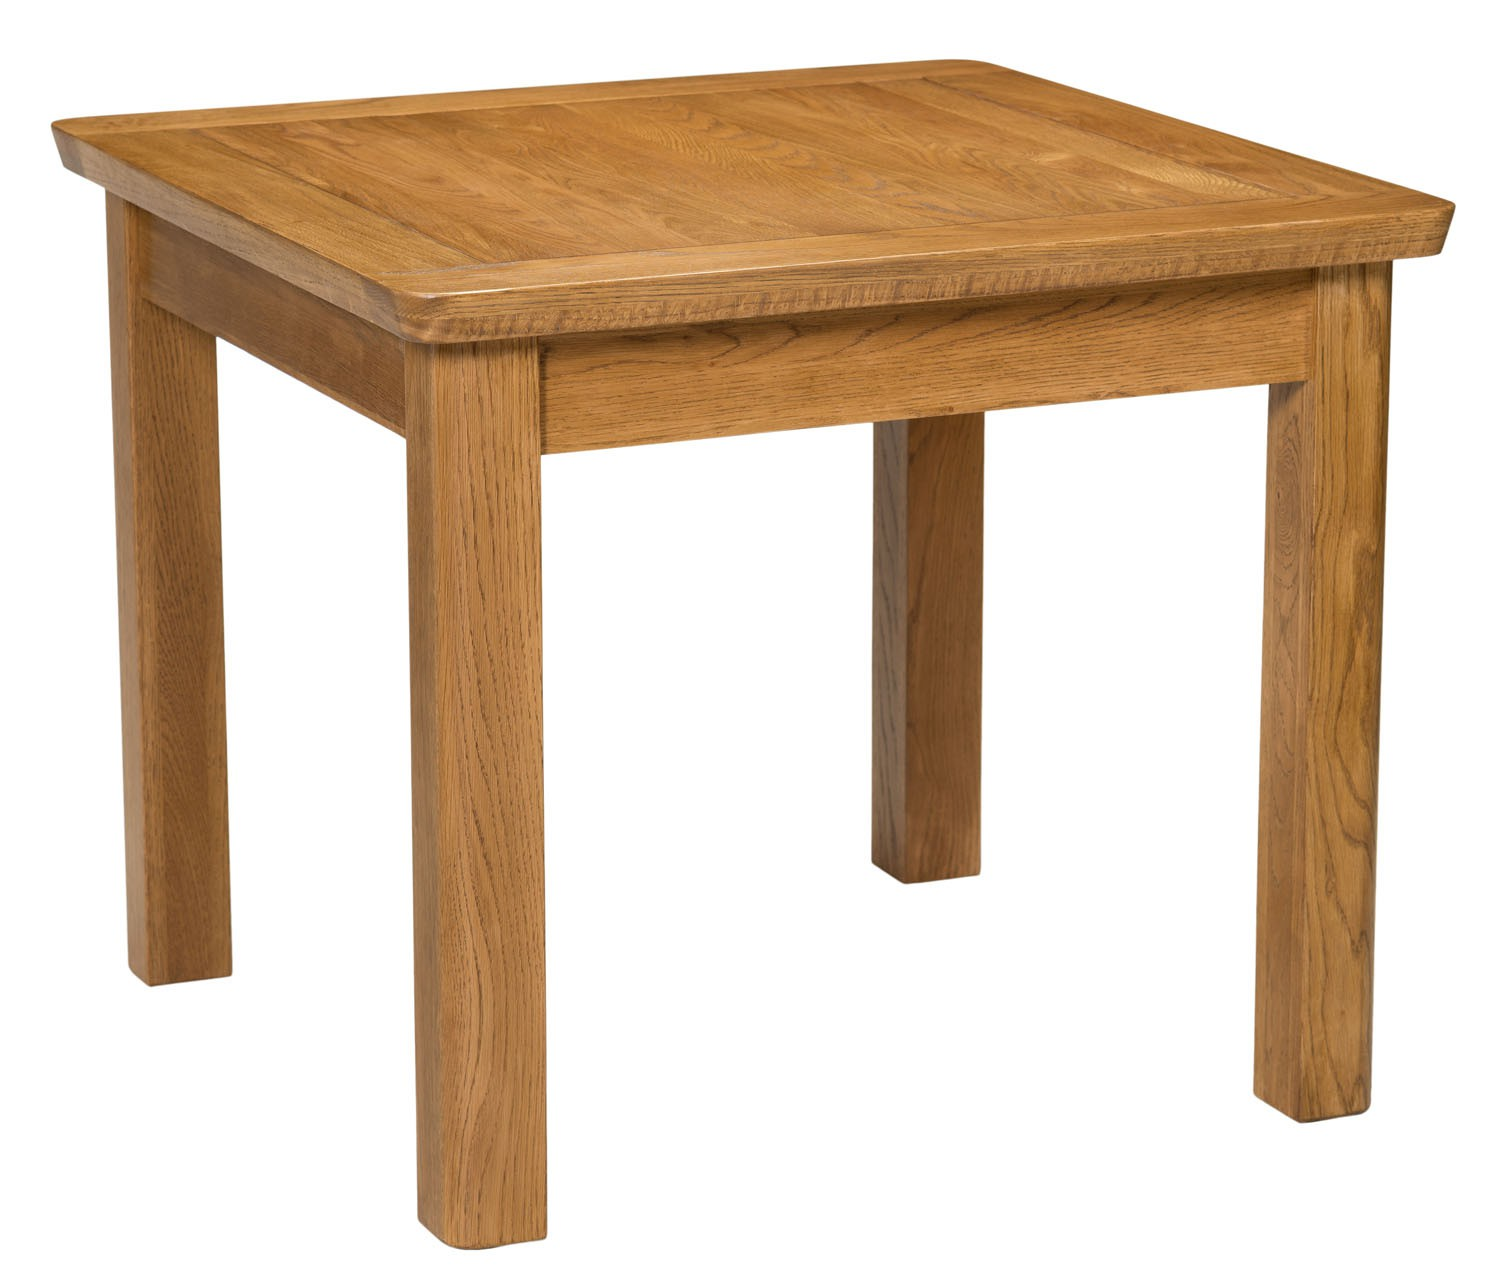meja: (1, 47, 1421, 1210)
